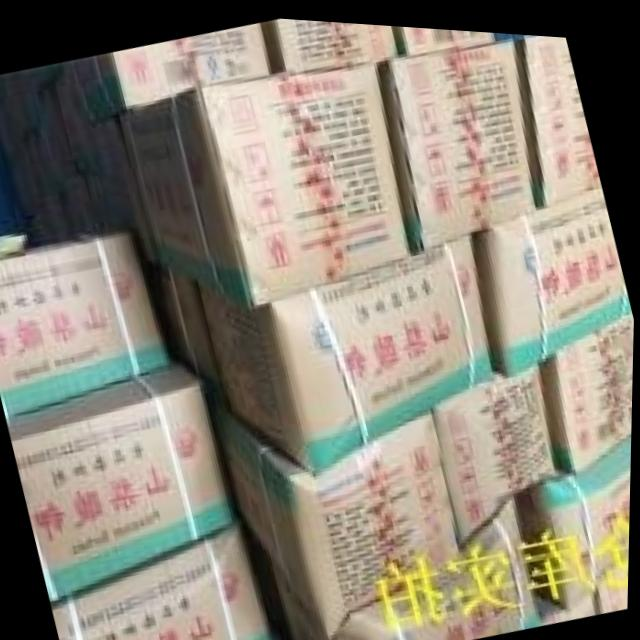box: (116, 54, 411, 306), (200, 226, 496, 468), (209, 392, 467, 633), (7, 364, 237, 600), (276, 492, 544, 640), (0, 226, 175, 418), (380, 33, 533, 245), (472, 176, 633, 370), (52, 521, 273, 640), (435, 355, 561, 532), (518, 425, 633, 611), (70, 18, 269, 123), (542, 301, 635, 467), (513, 27, 599, 199), (148, 259, 226, 401), (260, 15, 397, 67), (50, 65, 101, 174), (34, 87, 75, 183), (394, 21, 500, 48), (3, 80, 32, 143), (31, 63, 68, 90)
